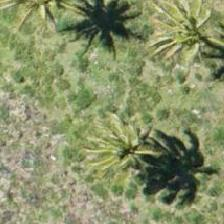coconut_tree: (74, 92, 164, 182), (145, 0, 223, 78)
